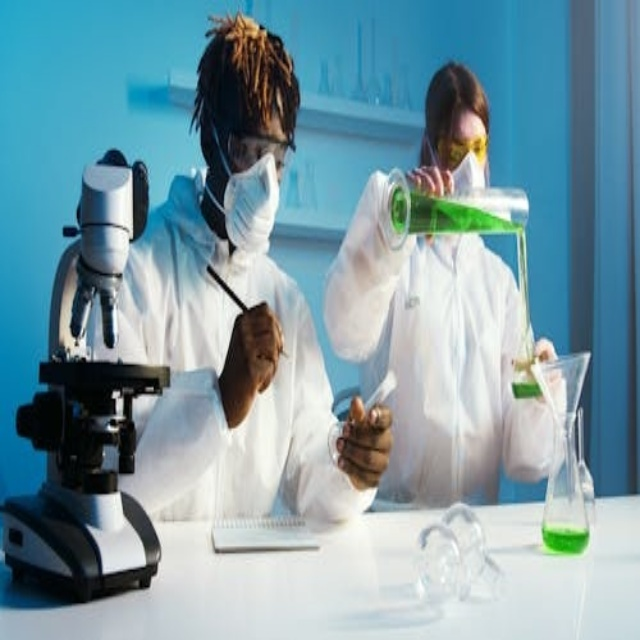Gafas: (416, 503, 505, 607), (227, 128, 295, 178), (441, 131, 489, 167)
Mascara: (217, 147, 280, 261), (444, 149, 485, 202)
Sin_guantes: (219, 304, 285, 428), (333, 396, 393, 492), (514, 338, 561, 404), (408, 162, 452, 200)
